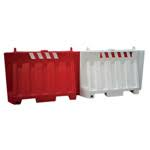barrier: (2, 48, 81, 109), (81, 47, 147, 103)
